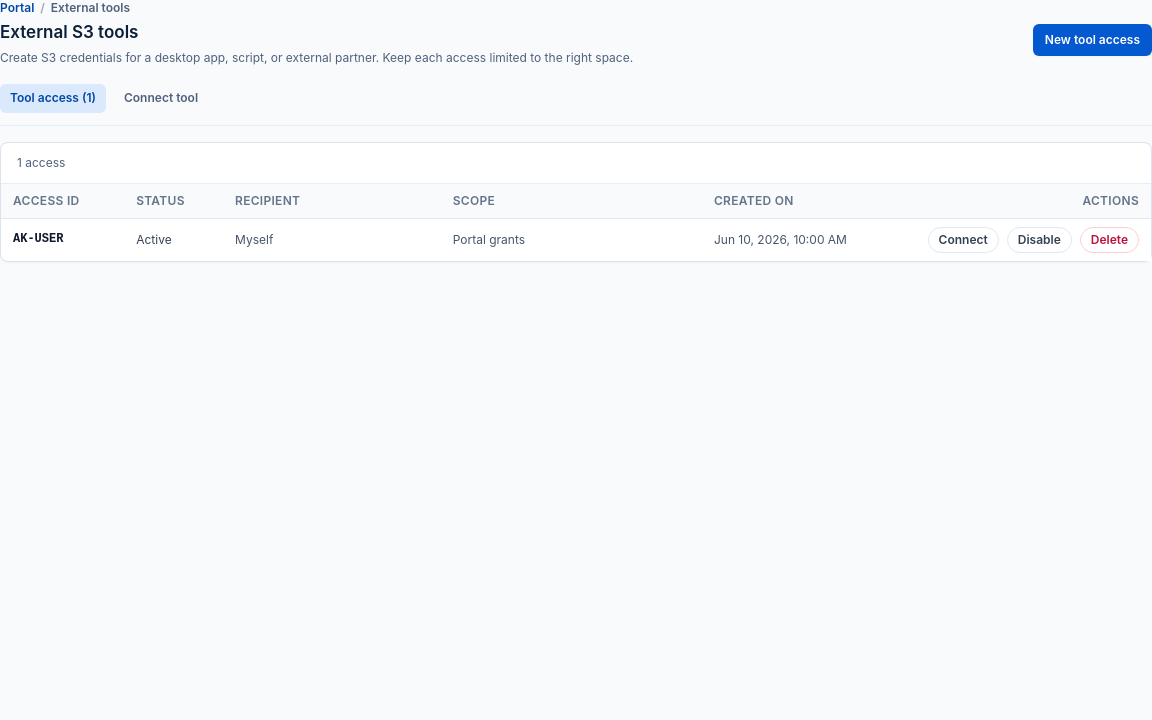
Scenario: PortalAccessKeysPage › shows Space loading and error states without presenting unusable application actions
Click the tab "Connect tool" at (161, 98), box 114,84 -> 208,112
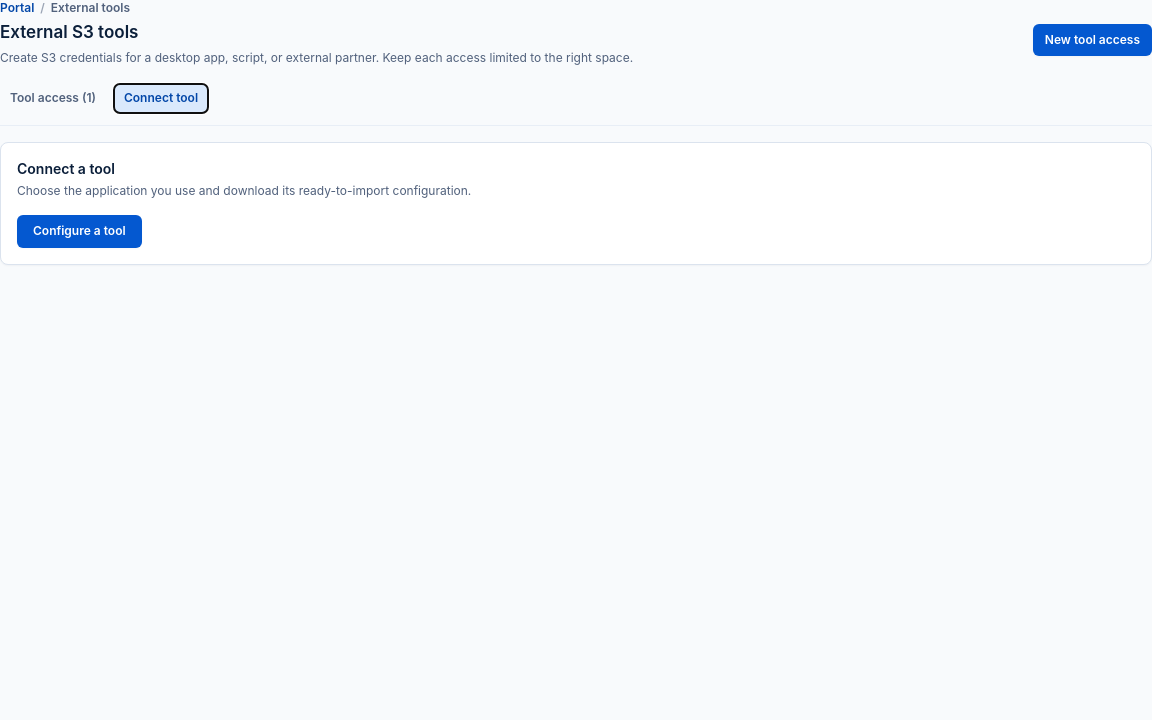
Click the button "Configure a tool" at (79, 231), box 17,215 -> 142,248
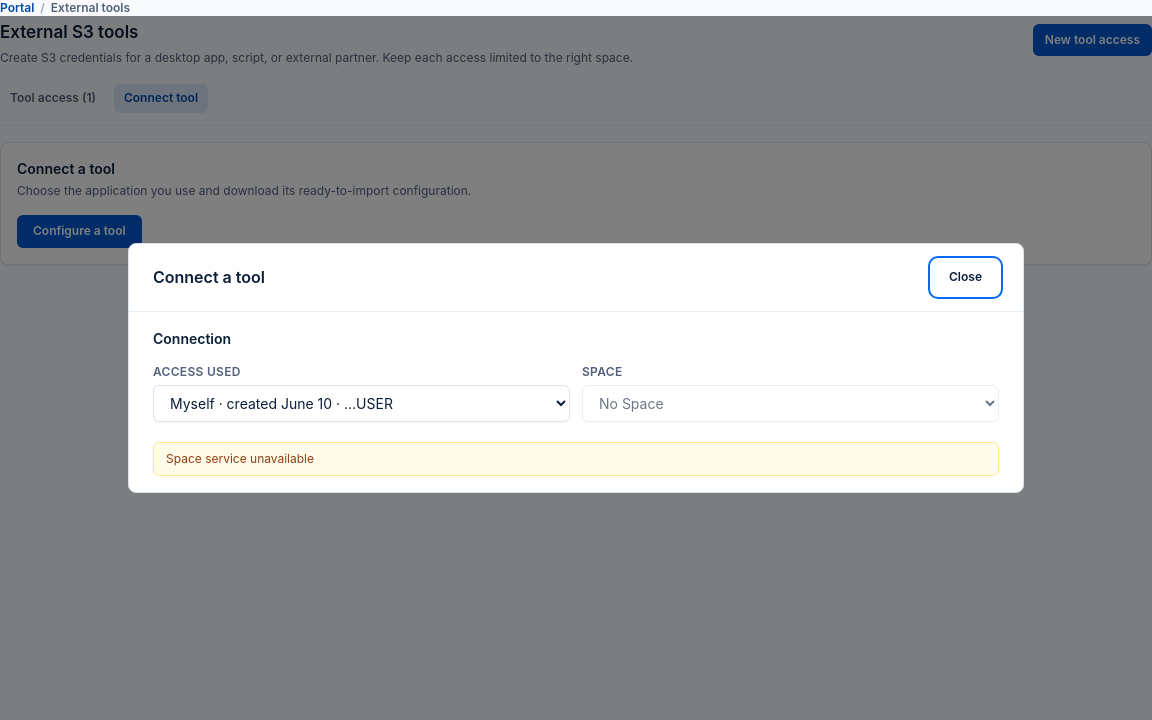
Expected: the text "Space service unavailable" is shown, 153,442 -> 999,476
